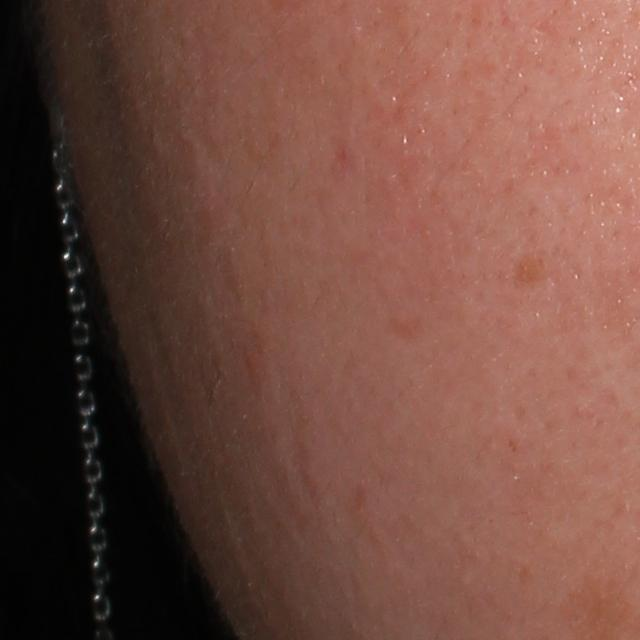melasma: (510, 245, 564, 294)
